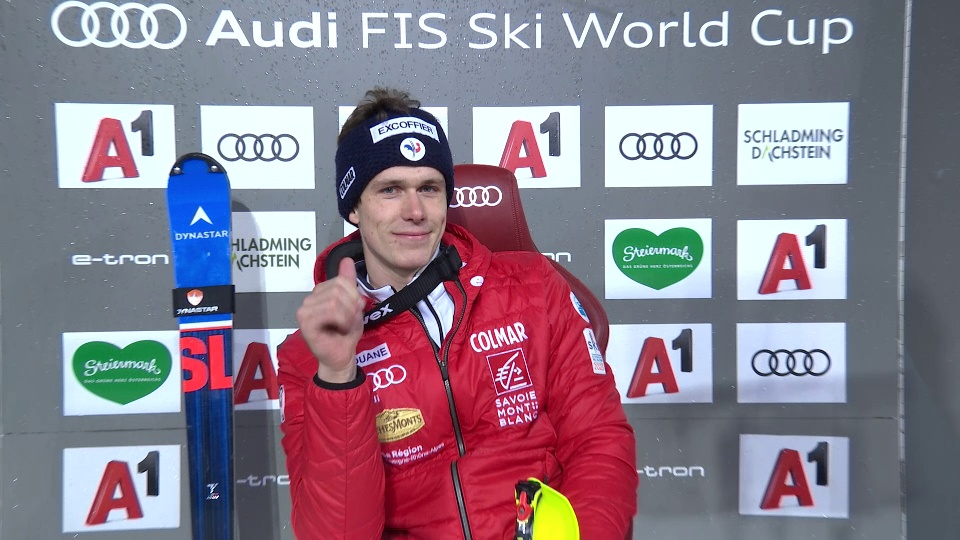a1: (68, 108, 171, 181), (78, 451, 171, 526), (752, 442, 843, 513), (752, 224, 840, 293), (621, 330, 706, 397), (489, 113, 572, 177), (232, 339, 282, 404)
audi: (52, 1, 190, 56), (217, 130, 302, 168), (620, 128, 700, 168), (750, 347, 834, 382), (447, 184, 503, 210), (367, 363, 409, 397)
etron: (66, 249, 177, 270), (621, 463, 712, 482), (231, 468, 306, 489)
schladming: (738, 116, 849, 181), (208, 222, 319, 287)
steiermark: (61, 335, 184, 409), (609, 223, 714, 288)
